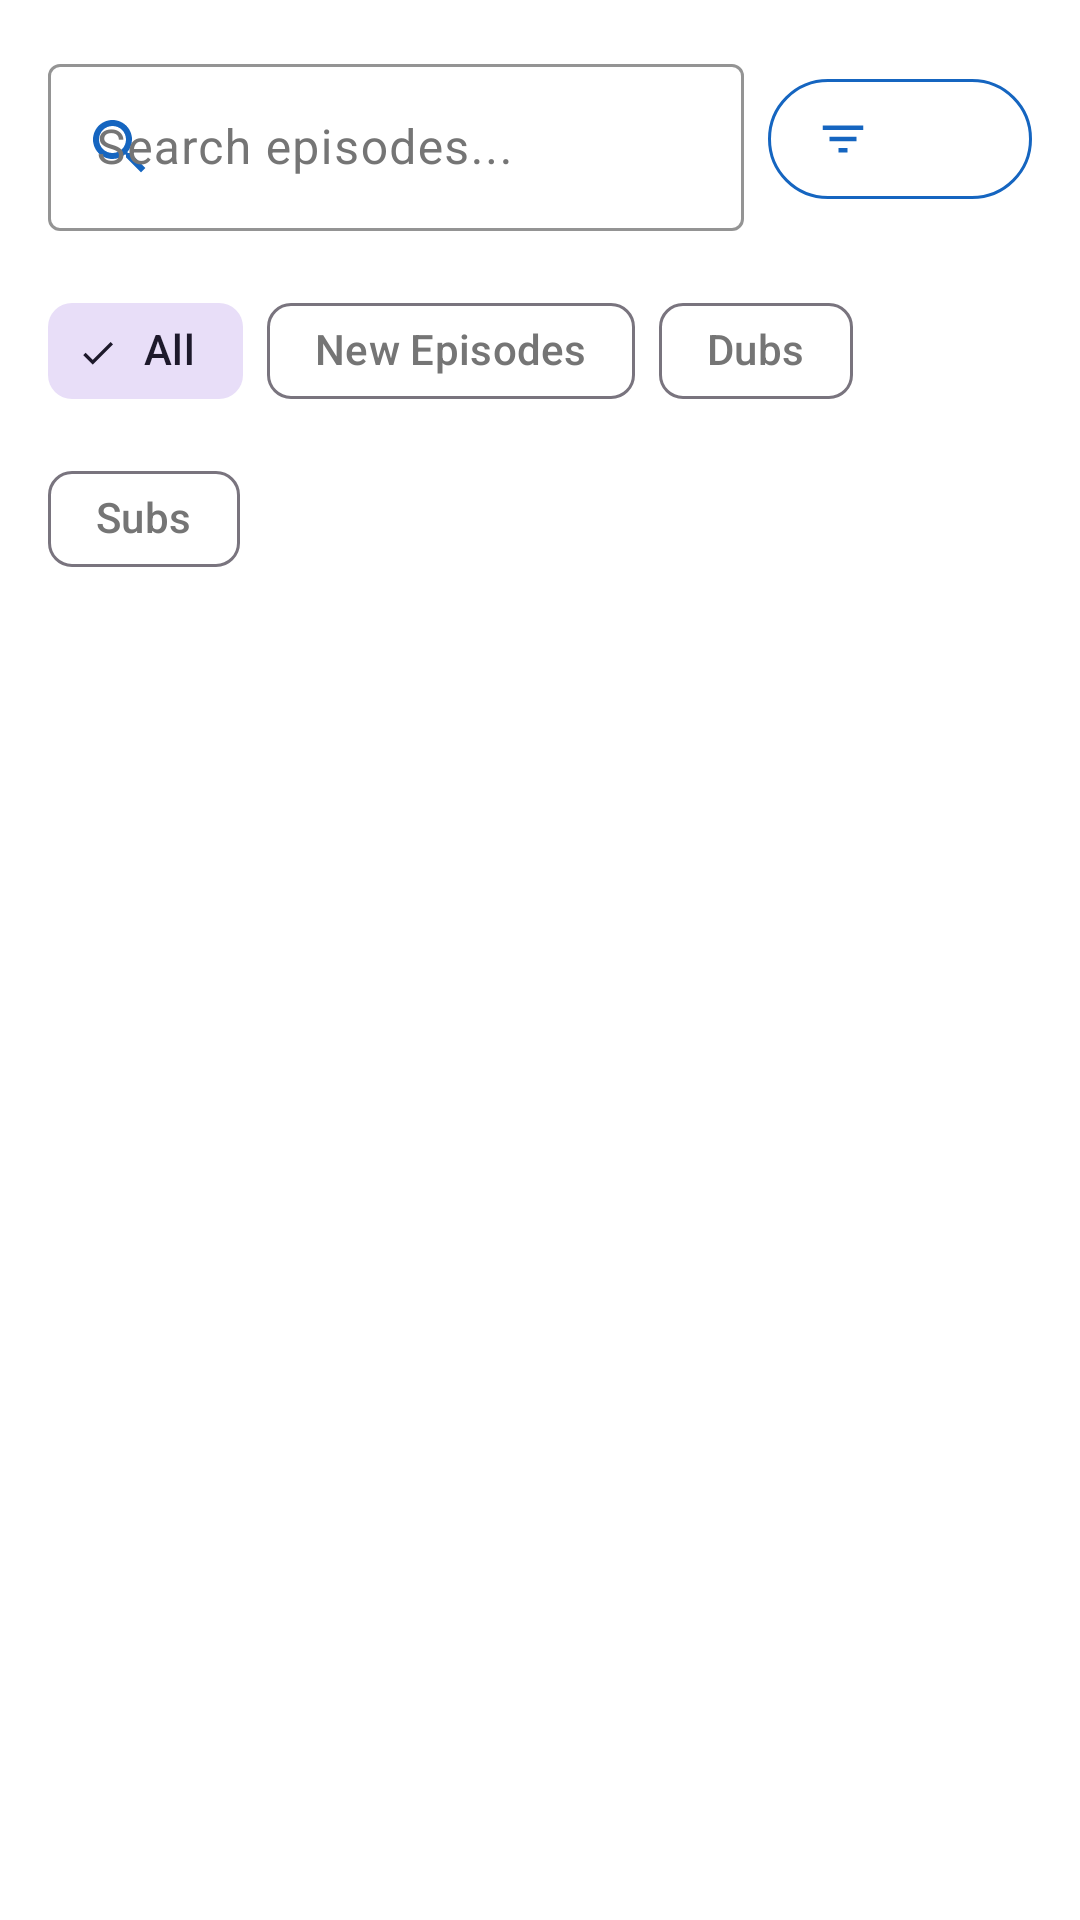

Where icons sit on this 1080 × 1920 app screen, as bbox=[x1, y1, x2, y2]:
filter: bbox=[768, 79, 1032, 199]
